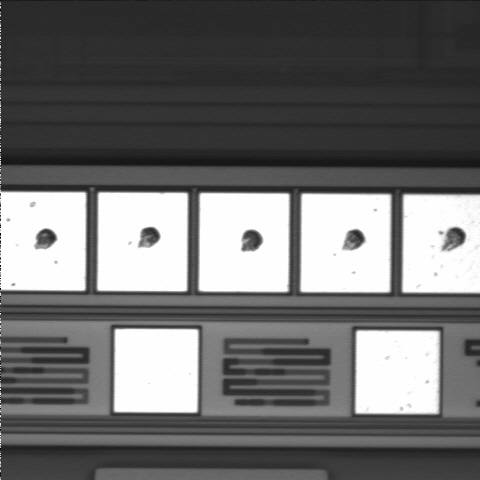pad: (199, 193, 289, 292), (98, 193, 188, 291), (301, 194, 390, 292), (114, 329, 198, 412), (356, 331, 439, 414)
